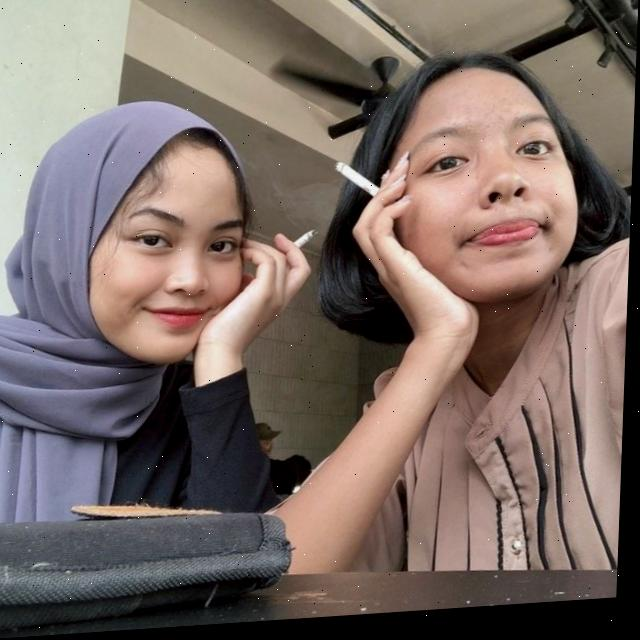cigarette: (334, 164, 382, 206), (296, 232, 321, 253)
